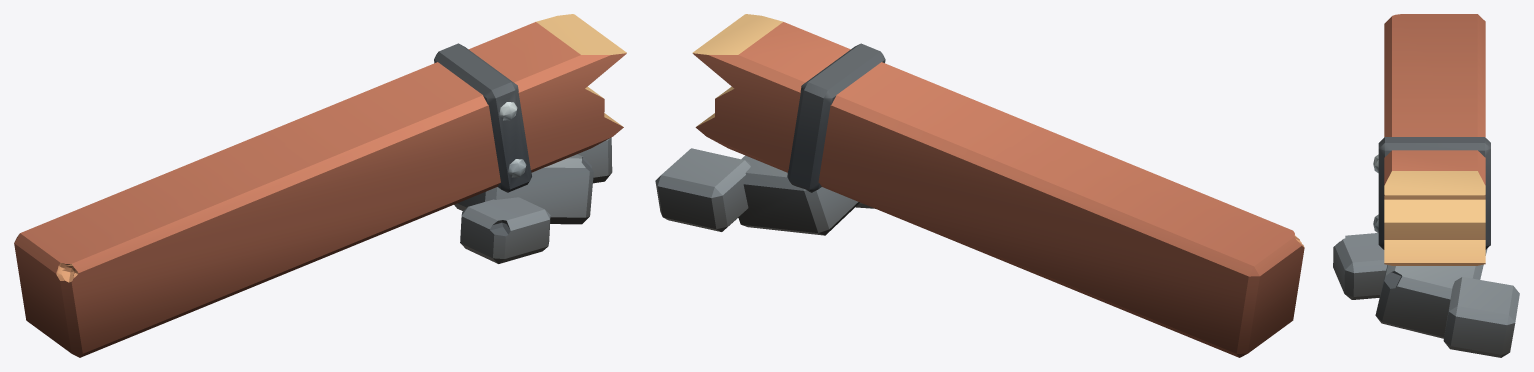
Rendered from fallen_beam.glb.
3 views of the same model, side by side, from view 1: azimuth 30°, elevation 25°; view 2: azimuth 150°, elevation 25°; view 3: azimuth 270°, elevation 25° (orthographic). The views are drawn at different scales.
Visible parts, largest first — view 1: Item; view 2: Item; view 3: Item.
Part boxes in pixels (x1,y1,x2,y2): Item: (14, 14, 626, 357); Item: (655, 14, 1304, 357); Item: (1333, 14, 1519, 357).
Size of the model in its own units: 4.11 by 1.21 by 1.2.
Materials: 4 (4 with a texture image).
